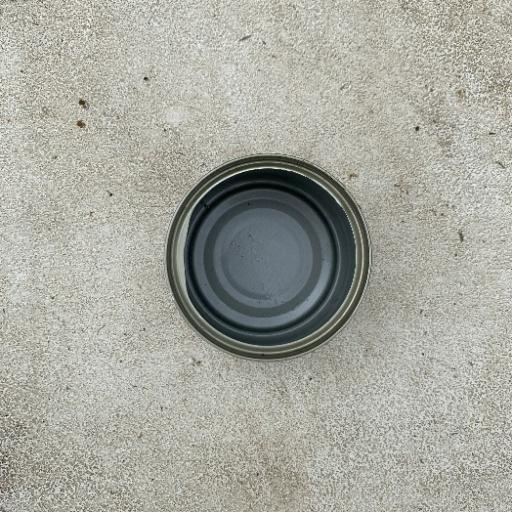Metal: (163, 152, 372, 362)
